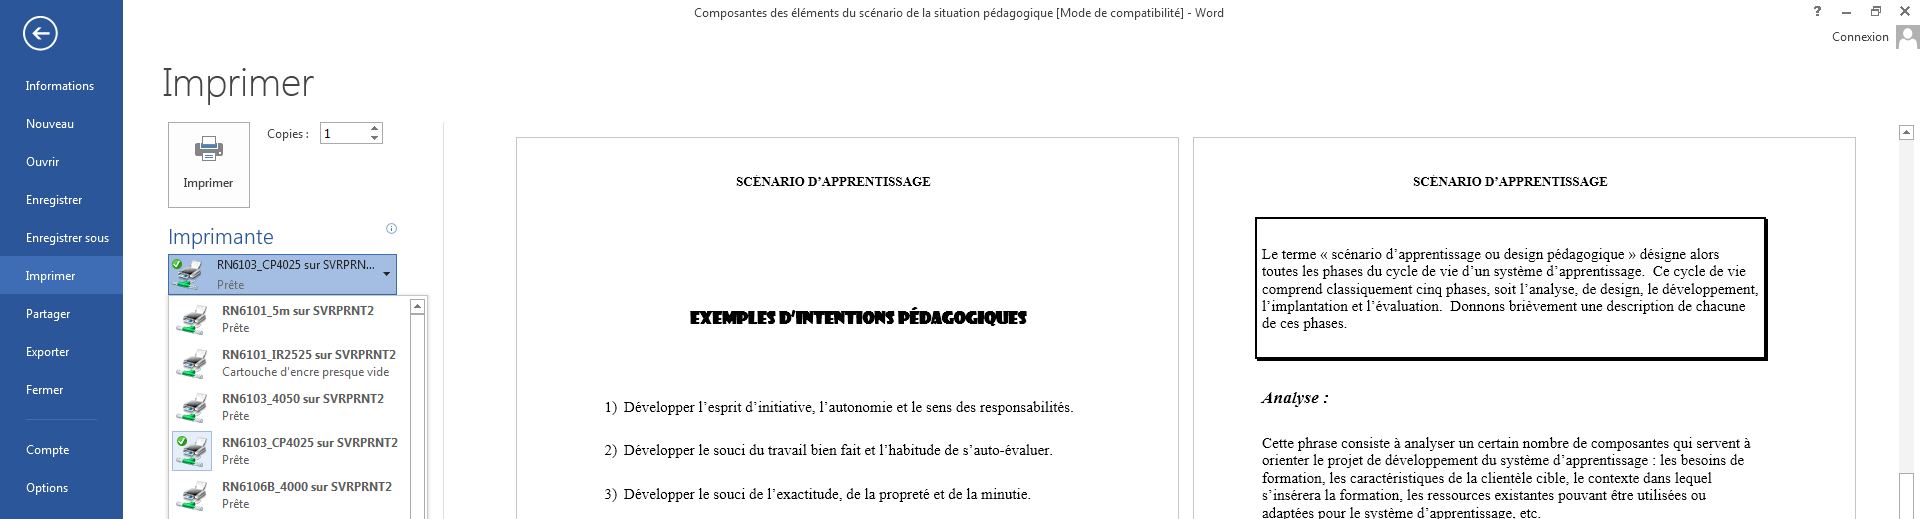texte: (164, 69, 313, 105), (170, 224, 273, 253), (218, 259, 371, 271), (222, 357, 274, 386), (1663, 283, 1758, 297), (1547, 264, 1641, 279), (1553, 454, 1648, 468), (1386, 248, 1480, 262), (1349, 472, 1444, 486), (1262, 300, 1348, 315), (1385, 454, 1478, 468), (1327, 283, 1412, 297), (178, 340, 207, 382), (178, 472, 207, 514), (980, 401, 1070, 415), (23, 16, 58, 51), (1417, 507, 1512, 519), (808, 177, 931, 186), (624, 401, 702, 415), (1485, 177, 1607, 186), (1547, 248, 1624, 262), (223, 438, 313, 449), (1607, 300, 1674, 315), (223, 350, 311, 361), (962, 444, 1049, 455), (624, 444, 696, 458), (624, 488, 696, 502), (223, 482, 309, 493), (1261, 392, 1319, 408), (768, 488, 842, 501), (1262, 283, 1322, 297), (1520, 283, 1578, 297), (1591, 439, 1669, 450), (746, 401, 816, 414), (223, 394, 300, 405), (1111, 9, 1183, 20), (696, 9, 767, 20), (820, 401, 891, 413), (1262, 472, 1325, 485), (984, 9, 1053, 20), (1509, 300, 1577, 311), (223, 306, 289, 317), (1376, 300, 1439, 311), (879, 488, 929, 502), (1404, 437, 1455, 450), (27, 195, 82, 207), (27, 233, 82, 245), (26, 81, 94, 91), (880, 444, 940, 455), (1340, 488, 1400, 499), (1446, 283, 1490, 297), (1494, 266, 1542, 279), (1600, 283, 1643, 297), (1262, 507, 1314, 519), (1640, 248, 1686, 262), (26, 271, 75, 283), (184, 177, 233, 190), (1558, 491, 1607, 503), (1896, 24, 1920, 49), (1322, 264, 1363, 279), (1501, 455, 1549, 468), (737, 177, 804, 186), (1262, 490, 1321, 499), (1414, 177, 1480, 186), (1480, 472, 1532, 484), (1332, 248, 1382, 259), (1637, 488, 1687, 499), (1303, 317, 1343, 330), (1450, 301, 1505, 311), (1696, 300, 1745, 311), (1504, 248, 1543, 262), (1298, 437, 1337, 450), (1365, 508, 1413, 519), (27, 308, 70, 321), (195, 143, 223, 162), (313, 306, 373, 315), (323, 394, 383, 403), (336, 350, 396, 359), (337, 438, 397, 447), (331, 482, 391, 491), (1588, 474, 1640, 484), (1495, 491, 1554, 499), (326, 259, 371, 271), (1523, 437, 1569, 448), (1681, 454, 1727, 465), (1675, 472, 1712, 486), (1833, 32, 1888, 40), (27, 446, 69, 457), (27, 484, 69, 495), (27, 119, 73, 129), (981, 490, 1027, 499), (1386, 264, 1417, 279), (1674, 264, 1704, 279), (768, 444, 807, 455), (268, 129, 302, 141), (708, 403, 742, 415), (305, 255, 321, 280), (1342, 439, 1390, 448), (792, 9, 839, 17), (1262, 457, 1309, 465), (323, 370, 364, 379), (1537, 472, 1569, 485), (1428, 493, 1490, 499), (936, 9, 980, 17), (1057, 9, 1091, 20), (1329, 457, 1363, 468), (860, 9, 902, 17), (1697, 439, 1740, 448), (1478, 439, 1520, 448), (280, 367, 320, 376), (1690, 248, 1719, 259), (27, 157, 59, 166), (1262, 438, 1294, 448), (1462, 264, 1490, 275), (1262, 267, 1298, 275), (811, 444, 838, 455), (1282, 251, 1316, 259), (1417, 286, 1442, 297), (1644, 472, 1670, 484), (1195, 9, 1223, 17), (1318, 510, 1346, 519), (171, 282, 198, 290), (714, 448, 744, 455), (714, 492, 744, 499), (218, 280, 244, 289), (223, 323, 249, 332), (223, 411, 249, 420), (223, 455, 249, 464), (223, 499, 249, 508), (956, 401, 976, 413), (841, 444, 861, 455), (1611, 490, 1633, 499), (1352, 300, 1370, 311), (201, 136, 217, 148), (367, 367, 389, 376), (927, 405, 951, 413), (1674, 441, 1692, 450), (1262, 248, 1278, 259), (1302, 264, 1318, 275), (1367, 264, 1382, 275), (1482, 454, 1498, 465), (1660, 454, 1676, 465), (1330, 472, 1346, 484), (1407, 488, 1423, 499), (605, 444, 617, 458), (605, 488, 617, 502), (749, 444, 764, 455), (1678, 300, 1692, 311), (1367, 454, 1381, 465), (1653, 266, 1669, 275), (1495, 286, 1516, 294), (1581, 304, 1602, 311), (1651, 444, 1656, 475), (606, 401, 617, 415), (749, 488, 763, 499), (949, 488, 962, 499), (1422, 264, 1435, 275), (1709, 264, 1723, 275), (1262, 317, 1276, 328), (1573, 437, 1587, 448), (1730, 454, 1744, 465), (1449, 472, 1462, 484), (771, 9, 789, 17), (1520, 509, 1537, 518), (945, 444, 958, 455), (847, 488, 860, 499), (1583, 283, 1596, 294), (1281, 321, 1299, 328), (864, 488, 876, 499), (1573, 472, 1584, 484), (1325, 488, 1336, 499), (1349, 507, 1360, 518), (1440, 269, 1458, 275), (898, 403, 909, 413), (912, 401, 922, 413), (699, 444, 709, 455), (864, 446, 876, 455), (699, 488, 709, 499), (934, 490, 945, 499), (967, 488, 977, 499), (1485, 252, 1500, 259), (1648, 283, 1658, 294), (1460, 441, 1474, 448), (1313, 454, 1322, 465), (1467, 472, 1477, 484), (293, 308, 310, 315), (302, 397, 320, 403), (315, 353, 332, 359), (317, 441, 334, 447), (311, 485, 328, 491), (842, 9, 855, 17), (907, 9, 920, 17), (1095, 9, 1107, 17), (1728, 269, 1745, 275), (371, 126, 378, 140), (1900, 6, 1910, 16), (1691, 493, 1706, 499), (1813, 6, 1821, 16), (923, 9, 931, 17), (324, 129, 331, 138), (1393, 438, 1400, 448), (1629, 252, 1636, 259), (1321, 252, 1327, 259), (1324, 395, 1329, 403), (391, 228, 392, 231), (1189, 13, 1191, 13)
